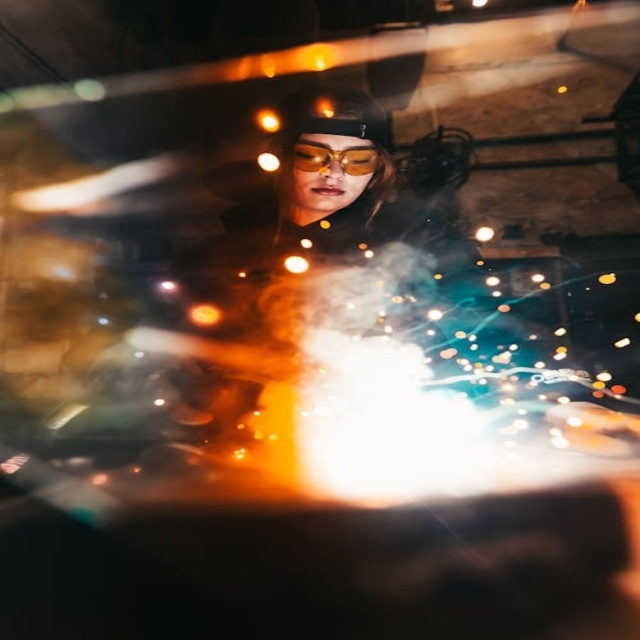Gafas: (289, 144, 384, 176)
Sin_mascara: (294, 183, 352, 213)
